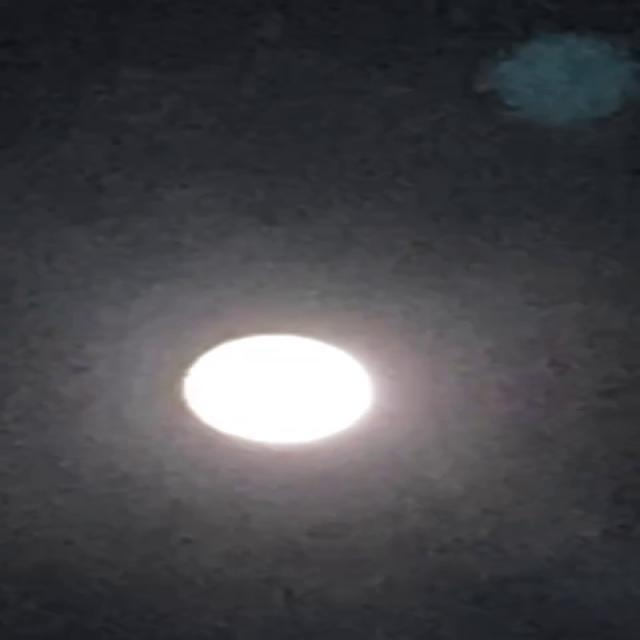moon: (152, 314, 390, 458)
